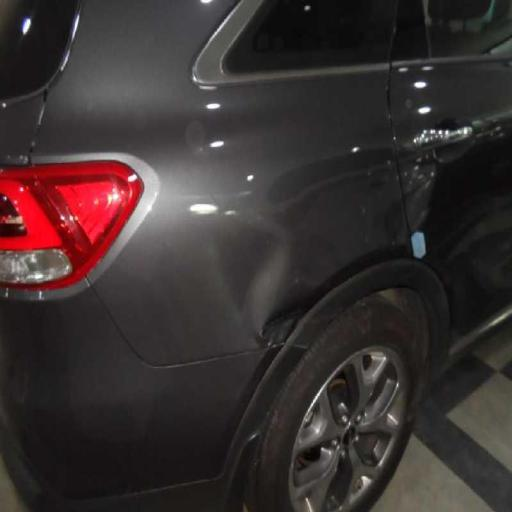dent: (188, 182, 340, 385)
